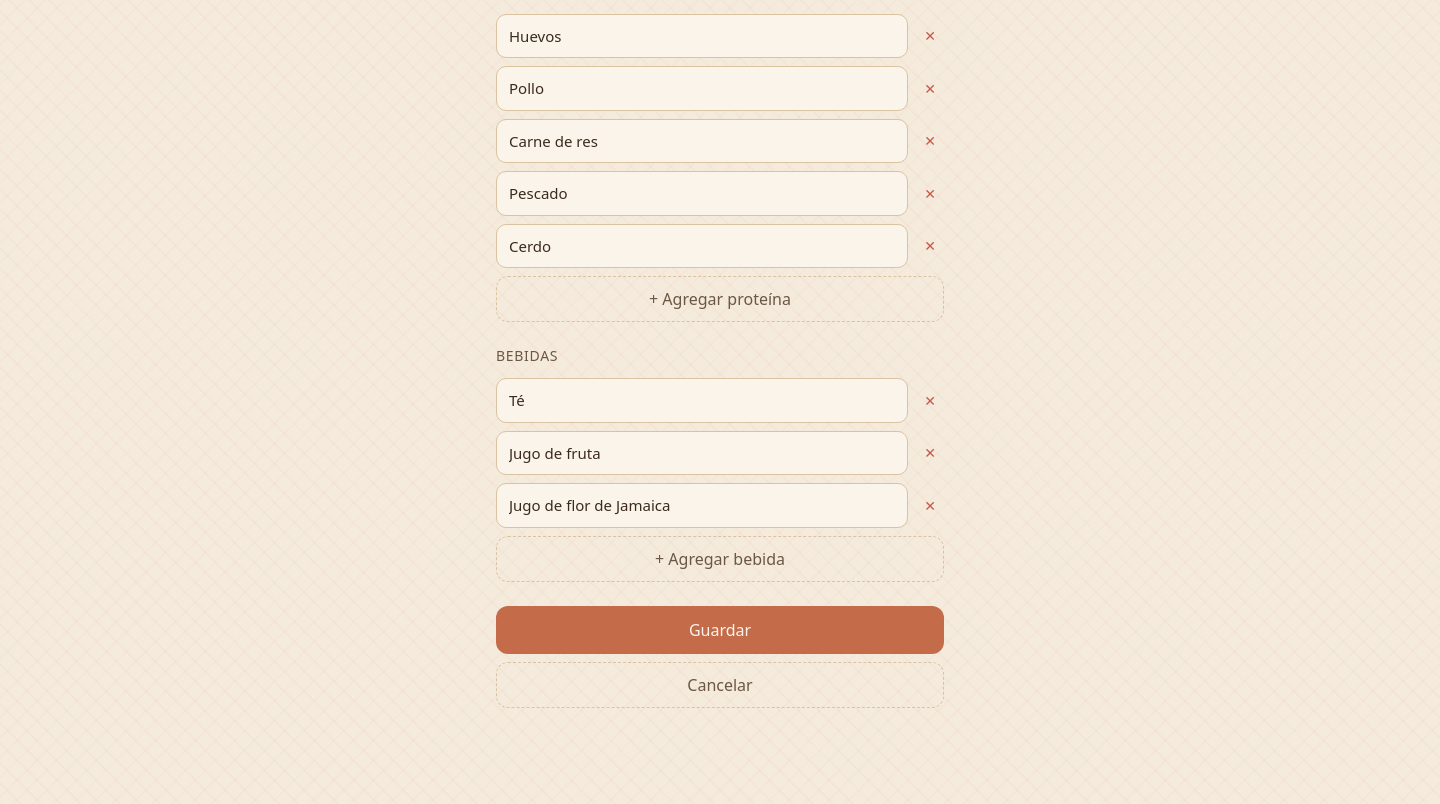
Configuracion — validaciones › exige nombre
(page scrolled)
Click the button "Guardar" at {"x": 720, "y": 630}, box [496, 606, 944, 654]
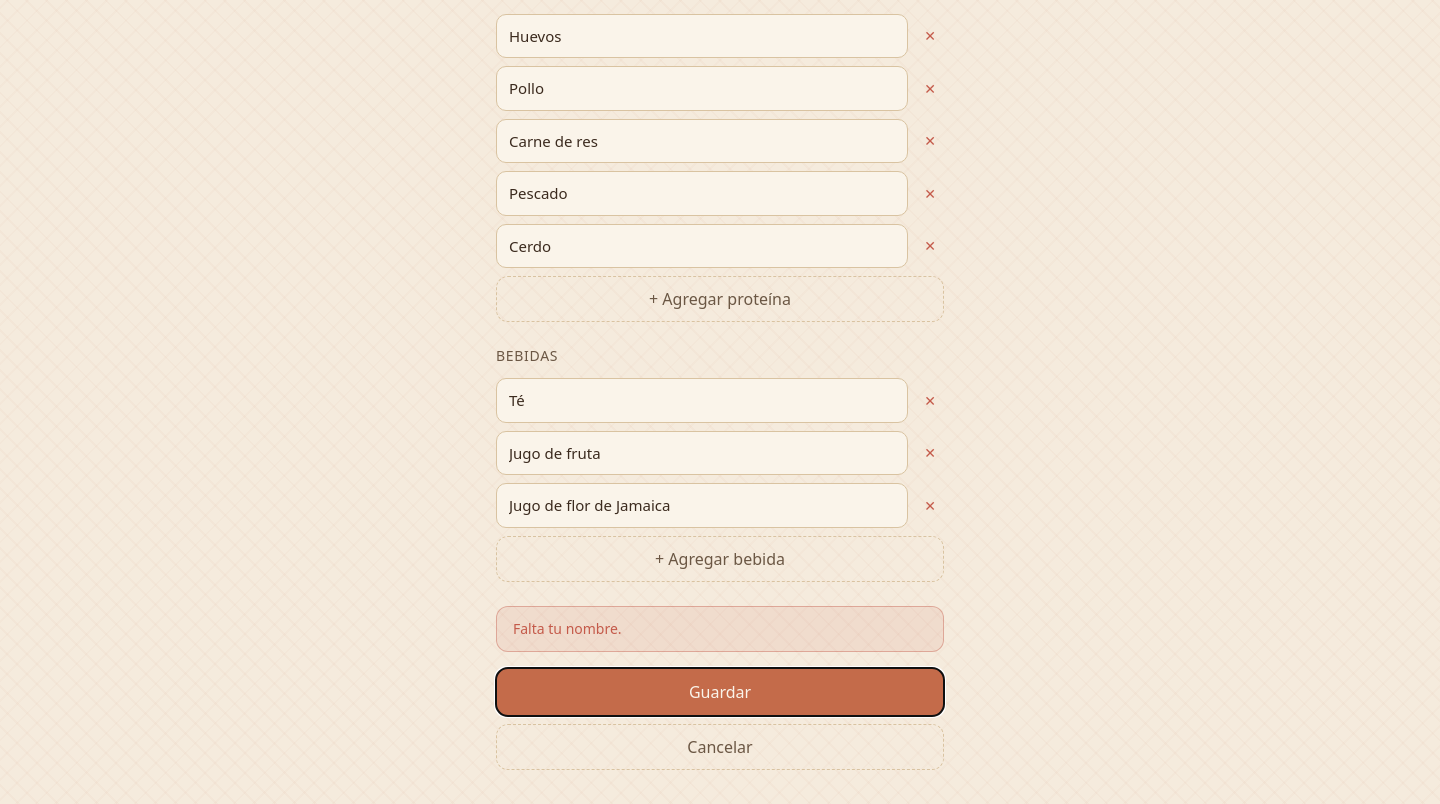
Result: the text "Falta tu nombre." is shown at [496, 606, 944, 652]
